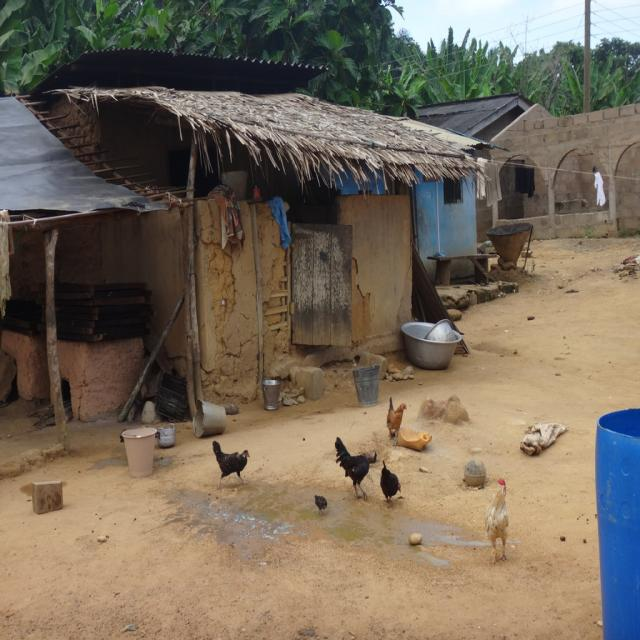Chicken: (485, 479, 509, 564), (337, 432, 367, 498), (213, 441, 251, 488), (385, 399, 406, 445), (381, 462, 401, 502)
